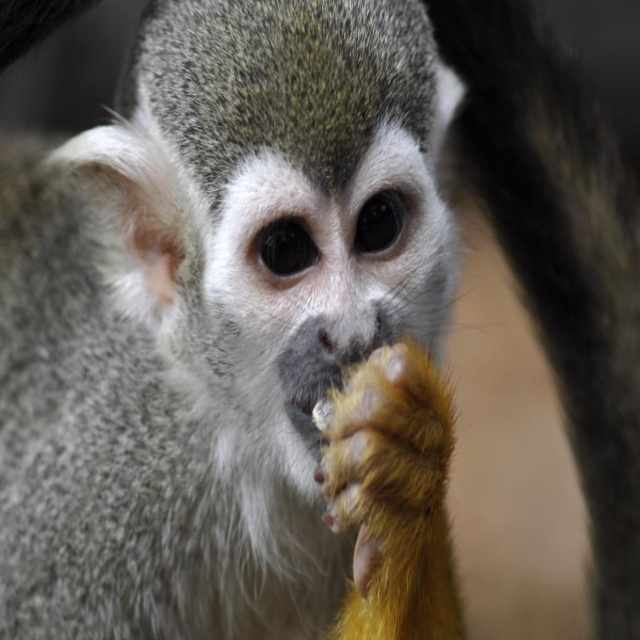Monkey: (1, 4, 467, 639)
